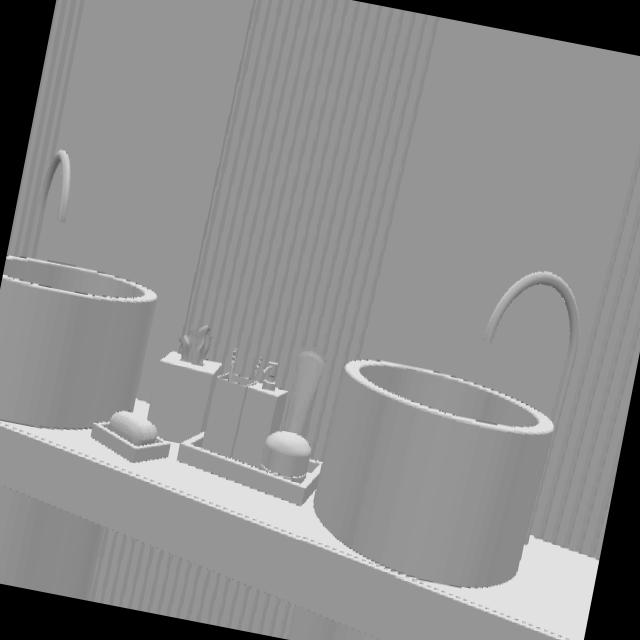washbasin: (310, 360, 555, 592), (0, 254, 159, 430)
